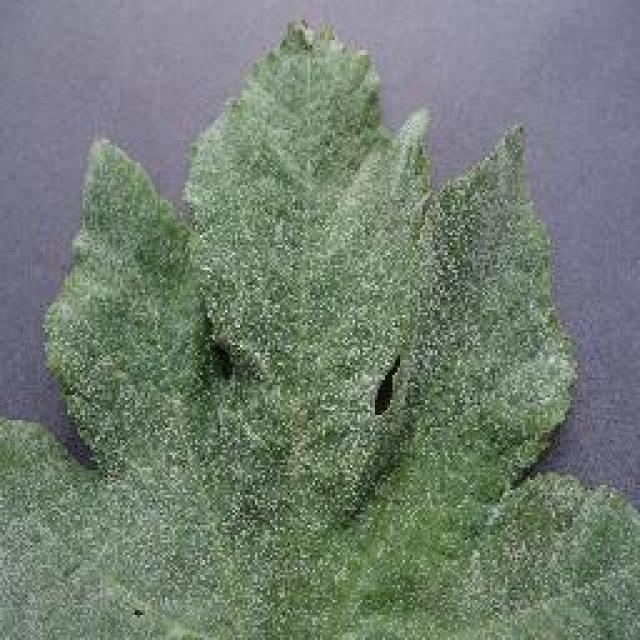Squ_Powdery_mildew: (110, 137, 510, 610)
